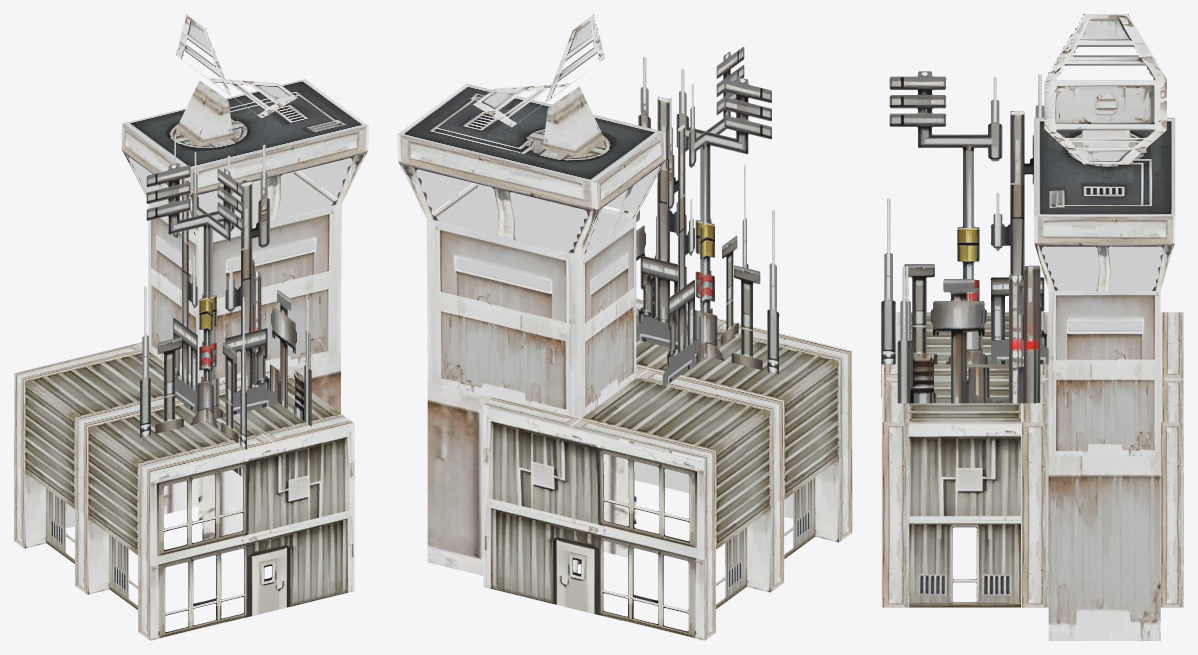
The model's file is s_sensorcontrol_hdtex.glb.
3 views of the same model, side by side, from view 1: azimuth 30°, elevation 25°; view 2: azimuth 150°, elevation 25°; view 3: azimuth 270°, elevation 25° (orthographic). The views are drawn at different scales.
Parts seen in each view (by area): view 1: L_SensorControl, LitWin_SensorControl, L_Dish; view 2: L_SensorControl, LitWin_SensorControl, L_Dish; view 3: L_SensorControl, L_Dish, LitWin_SensorControl.
Part boxes in pixels (x1,y1,x2,y2): L_SensorControl: [14, 79, 368, 640]; LitWin_SensorControl: [66, 157, 352, 528]; L_Dish: [176, 14, 297, 146]; L_SensorControl: [397, 47, 852, 640]; LitWin_SensorControl: [416, 166, 793, 518]; L_Dish: [473, 14, 604, 157]; L_SensorControl: [881, 71, 1183, 640]; L_Dish: [1044, 14, 1166, 164]; LitWin_SensorControl: [1041, 246, 1163, 330].
Bounding box in the file's own units: 15.77 × 26.74 × 13.01.
Materials: 2 (2 with a texture image).
